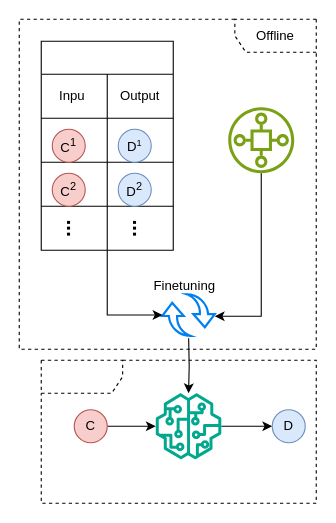
Image size: 336x523. Some labels were removed from this diagram. The box of each missing label's shape, as (x1, y1, x2, y2) in pixels:
Finetuned LLM: (155, 393, 221, 459)
Online: (40, 359, 316, 503)
Pretrained LLM: (228, 107, 294, 173)
Training Data: (40, 40, 173, 250)
